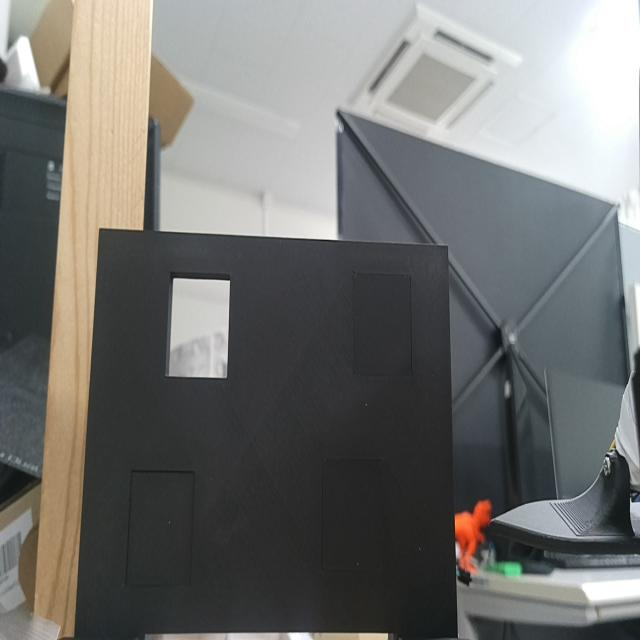Obstacle: (165, 275, 235, 377)
Wall: (76, 230, 456, 636)
